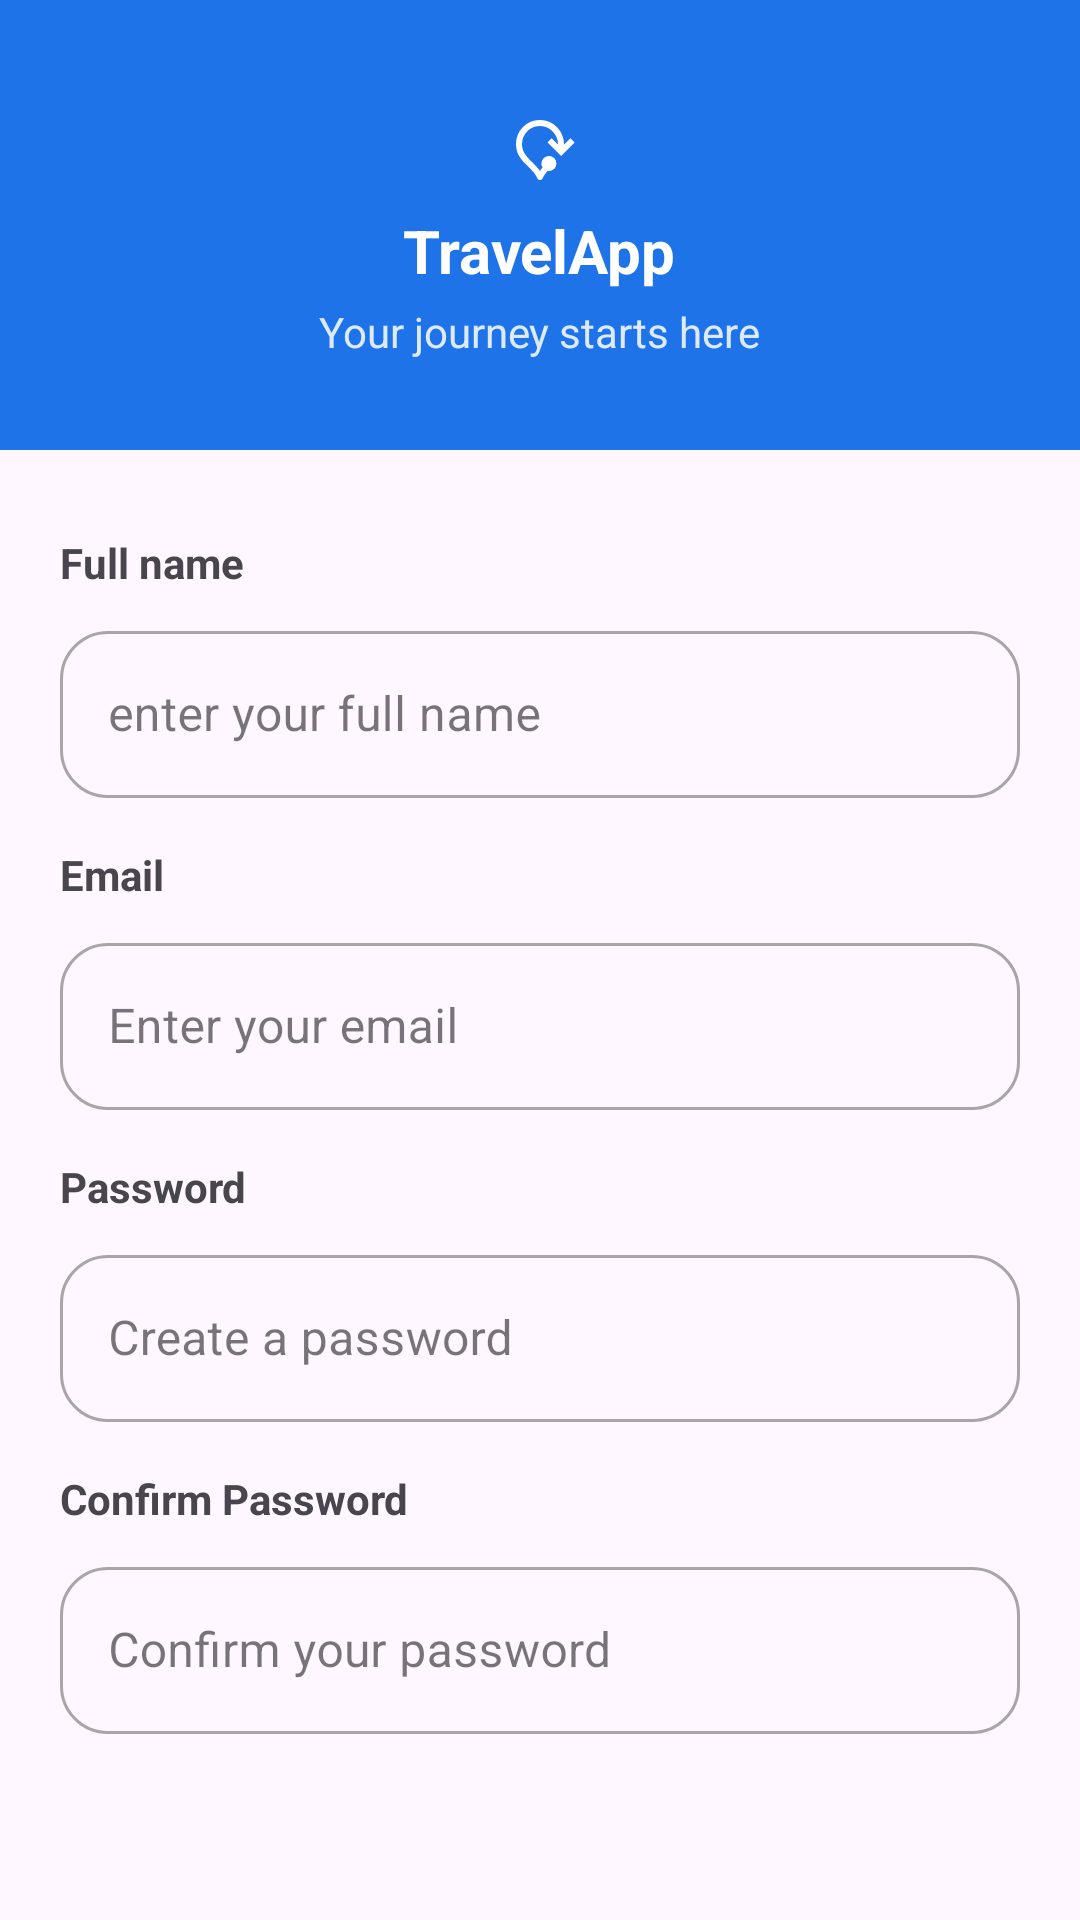

Where icons sit on this 1080 × 1920 app screen, as (x1, y1, x2, y2):
mode of travel: (516, 120, 575, 180)
